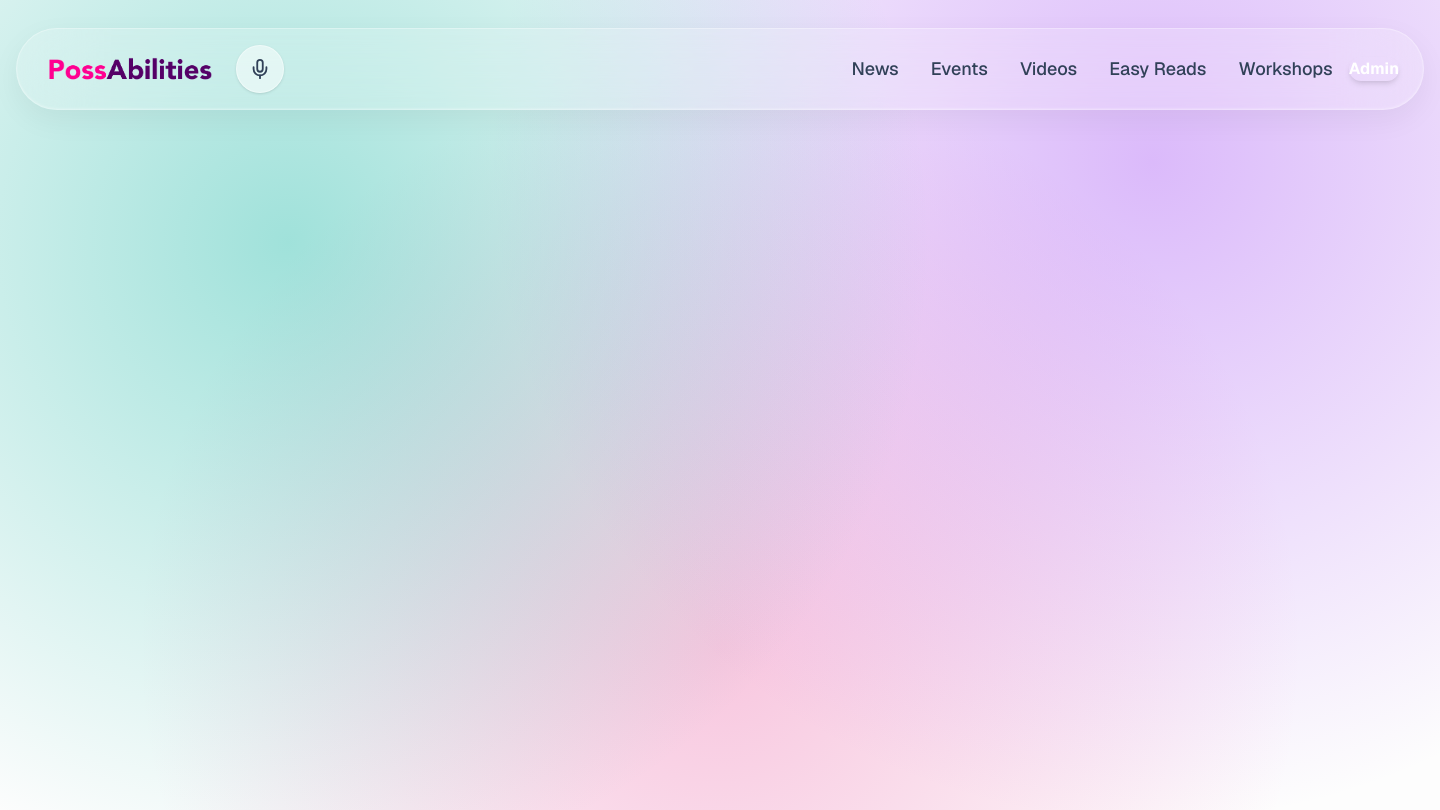
Test: Navbar Component › Voice Search Functionality › handles speech recognition errors
The width and height of the screenshot is (1440, 810).
Click the button named "Start voice search". click: (260, 69)
box: [236,45,284,93]
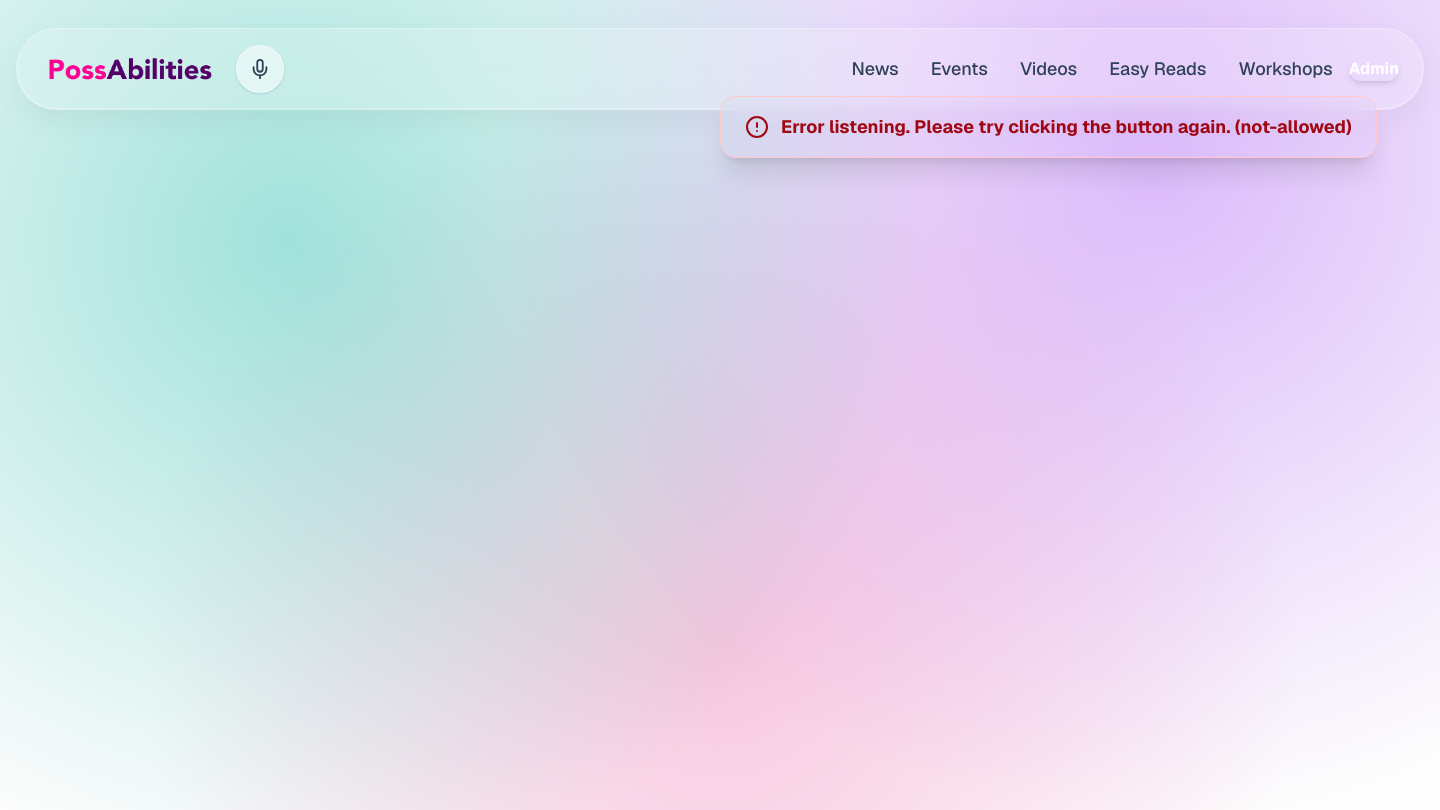
Result: the text "Error listening" is shown at [781,115,1352,138]
